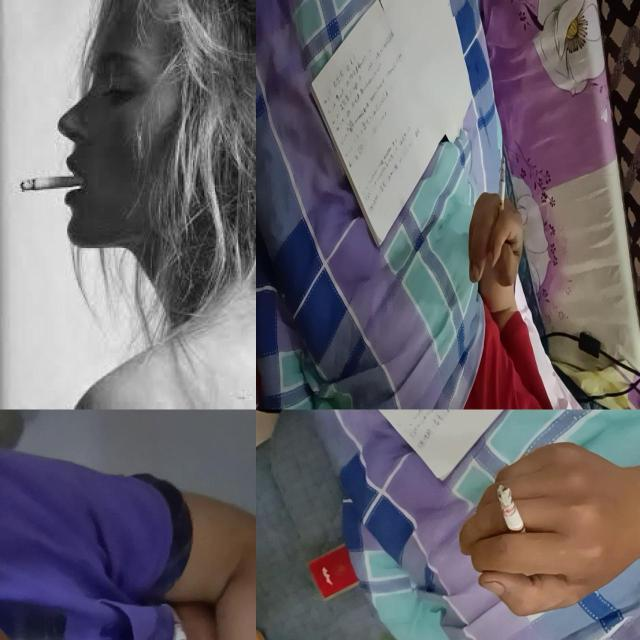smoking: (496, 484, 530, 548), (20, 174, 86, 192), (498, 155, 507, 227)
